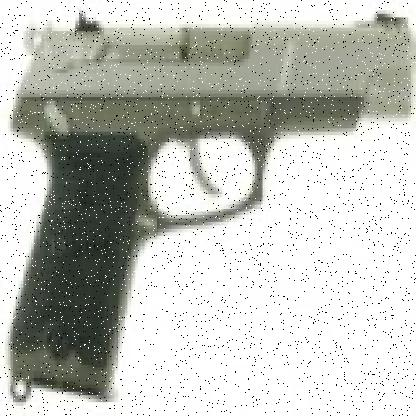pistol: (3, 7, 406, 399)
